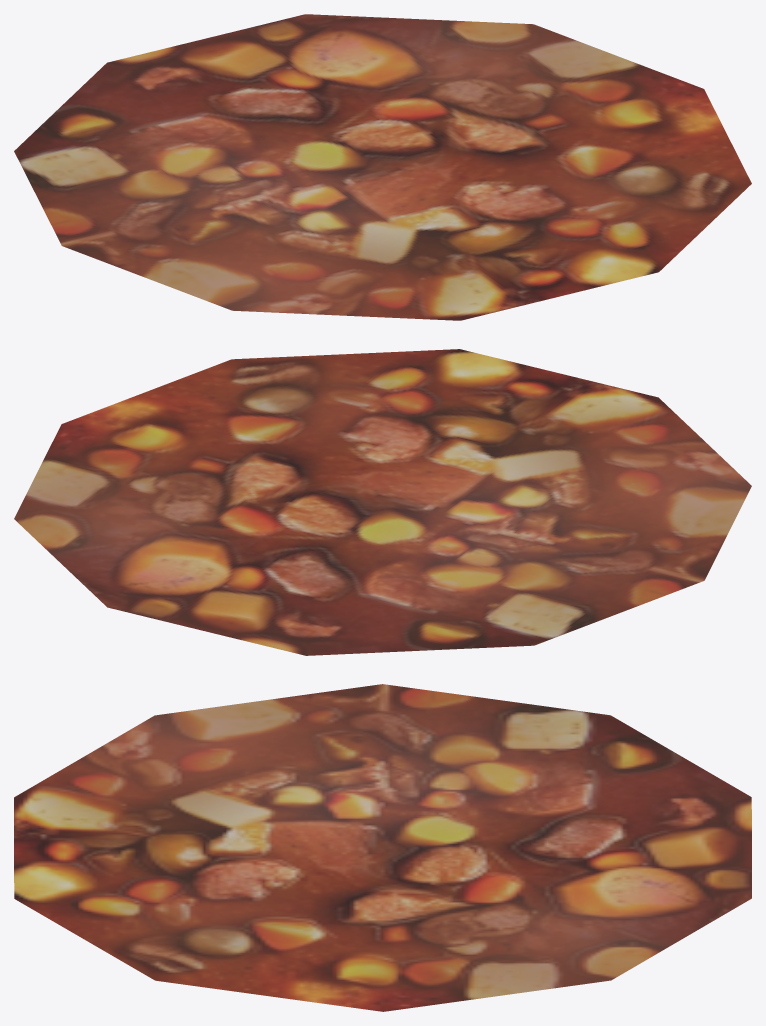
File: pan02_stew01.fbx
3 views of the same model, one above another, from view 1: azimuth 30°, elevation 25°; view 2: azimuth 150°, elevation 25°; view 3: azimuth 270°, elevation 25° (orthographic). The views are drawn at different scales.
Parts seen in each view (by area): view 1: pan02_stew01; view 2: pan02_stew01; view 3: pan02_stew01.
Part boxes in pixels (<box>): pan02_stew01: <box>14,14,751,320</box>; pan02_stew01: <box>14,349,751,655</box>; pan02_stew01: <box>14,684,751,1011</box>.
Size of the model in its own units: 0.3841 by 5.22e-08 by 0.3654.
